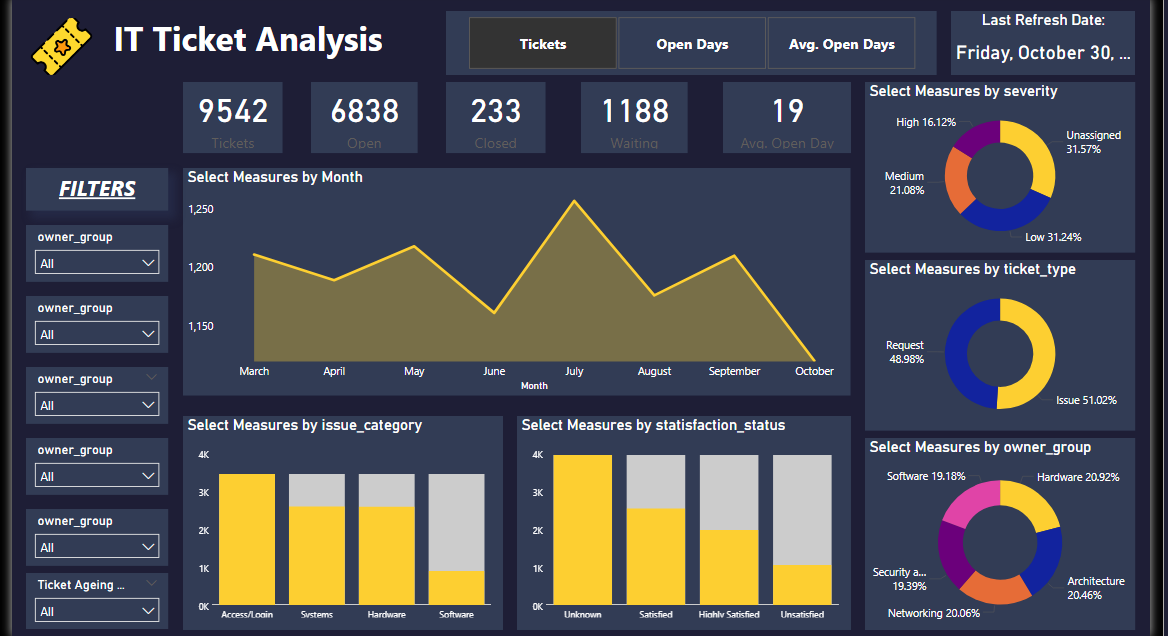

The dashboard page shown, as its layout file describes it:
{"tool":"powerbi","page":{"name":"IT Ticket Analysis","canvas":[1280,720],"ordinal":0},"visuals":[{"type":"card","fields":{"Values":["IT Help Desk.@Total Tickets"]},"box":[192,96,112,80],"z":0},{"type":"card","fields":{"Values":["IT Help Desk.@Total Tickets"]},"box":[336,96,120,80],"z":1000},{"type":"card","fields":{"Values":["IT Help Desk.@Total Tickets"]},"box":[488,96,112,80],"z":2000},{"type":"card","fields":{"Values":["IT Help Desk.@Avg. Open Days"]},"box":[799.6,95.7,144,79.6],"z":3000},{"type":"card","fields":{"Values":["IT Help Desk.@Total Tickets"]},"box":[640,96,120,80],"z":4000},{"type":"card","title":"Last Refresh Date:","fields":{"Values":["Max(IT Help Desk.created_date)"]},"box":[1056.4,16.1,207.5,72],"z":5000},{"type":"donutChart","fields":{"Category":["IT Help Desk.severity"],"Y":["IT Help Desk.Select Measures"]},"box":[960,96,304,192],"z":6000},{"type":"donutChart","fields":{"Category":["IT Help Desk.ticket_type"],"Y":["IT Help Desk.Select Measures"]},"box":[960,296,304,192],"z":7000},{"type":"donutChart","fields":{"Category":["IT Help Desk.owner_group"],"Y":["IT Help Desk.Select Measures"]},"box":[960,496,304,216],"z":8000},{"type":"areaChart","fields":{"Category":["IT Help Desk.created_date.Variation.Date Hierarchy.Quarter","IT Help Desk.created_date.Variation.Date Hierarchy.Month"],"Y":["IT Help Desk.Select Measures"]},"box":[192.3,192.3,751.3,255.8],"z":9000},{"type":"slicer","fields":{"Values":["IT Help Desk.Ticket Ageing Days"]},"box":[16.1,648.1,160.1,63.5],"z":10000},{"type":"PBI_CV_73744D90_4DC9_4F18_8BA5_EE8FA5C98035","fields":{"Category":["IT Help Desk.issue_category"],"Values":["IT Help Desk.Select Measures"]},"box":[192.3,471.8,360,239.7],"z":11000},{"type":"PBI_CV_73744D90_4DC9_4F18_8BA5_EE8FA5C98035","fields":{"Values":["IT Help Desk.Select Measures"],"Category":["IT Help Desk.statisfaction_status"]},"box":[568.5,471.8,375.2,239.7],"z":12000},{"type":"image","box":[16,24,80,64],"z":13000},{"type":"textbox","box":[109,16.1,327.8,72],"z":14000},{"type":"textbox","box":[16,192,160,48],"z":15000},{"type":"slicer","fields":{"Values":["IT Help Desk.owner_group"]},"box":[16,256,160,64],"z":16000},{"type":"slicer","fields":{"Values":["IT Help Desk.owner_group"]},"box":[16,336,160,64],"z":17000},{"type":"slicer","fields":{"Values":["IT Help Desk.owner_group"]},"box":[16,416,160,64],"z":18000},{"type":"slicer","fields":{"Values":["IT Help Desk.owner_group"]},"box":[16,496,160,64],"z":19000},{"type":"slicer","fields":{"Values":["IT Help Desk.owner_group"]},"box":[16,576,160,64],"z":20000},{"type":"slicer","fields":{"Values":["Measure.Select Measure"]},"box":[487.9,16.1,552.4,72],"z":21000}]}

Visuals, with their boxes on the page's 1280x720 design canvas (x1, y1, x2, y2). These are canvas units, not pixel positions in the 1168x636 screenshot, which may show the page scaled, cropped or inside an application window:
card - IT Help Desk.@Total Tickets: bbox(192, 96, 304, 176)
card - IT Help Desk.@Total Tickets: bbox(336, 96, 456, 176)
card - IT Help Desk.@Total Tickets: bbox(488, 96, 600, 176)
card - IT Help Desk.@Avg. Open Days: bbox(800, 96, 944, 175)
card - IT Help Desk.@Total Tickets: bbox(640, 96, 760, 176)
"Last Refresh Date:" card: bbox(1056, 16, 1264, 88)
donutChart - IT Help Desk.severity x IT Help Desk.Select Measures: bbox(960, 96, 1264, 288)
donutChart - IT Help Desk.ticket_type x IT Help Desk.Select Measures: bbox(960, 296, 1264, 488)
donutChart - IT Help Desk.owner_group x IT Help Desk.Select Measures: bbox(960, 496, 1264, 712)
areaChart - IT Help Desk.created_date.Variation.Date Hierarchy.Quarter x IT Help Desk.created_date.Variation.Date Hierarchy.Month: bbox(192, 192, 944, 448)
slicer - IT Help Desk.Ticket Ageing Days: bbox(16, 648, 176, 712)
PBI_CV_73744D90_4DC9_4F18_8BA5_EE8FA5C98035 - IT Help Desk.issue_category x IT Help Desk.Select Measures: bbox(192, 472, 552, 712)
PBI_CV_73744D90_4DC9_4F18_8BA5_EE8FA5C98035 - IT Help Desk.Select Measures x IT Help Desk.statisfaction_status: bbox(568, 472, 944, 712)
image: bbox(16, 24, 96, 88)
textbox: bbox(109, 16, 437, 88)
textbox: bbox(16, 192, 176, 240)
slicer - IT Help Desk.owner_group: bbox(16, 256, 176, 320)
slicer - IT Help Desk.owner_group: bbox(16, 336, 176, 400)
slicer - IT Help Desk.owner_group: bbox(16, 416, 176, 480)
slicer - IT Help Desk.owner_group: bbox(16, 496, 176, 560)
slicer - IT Help Desk.owner_group: bbox(16, 576, 176, 640)
slicer - Measure.Select Measure: bbox(488, 16, 1040, 88)
